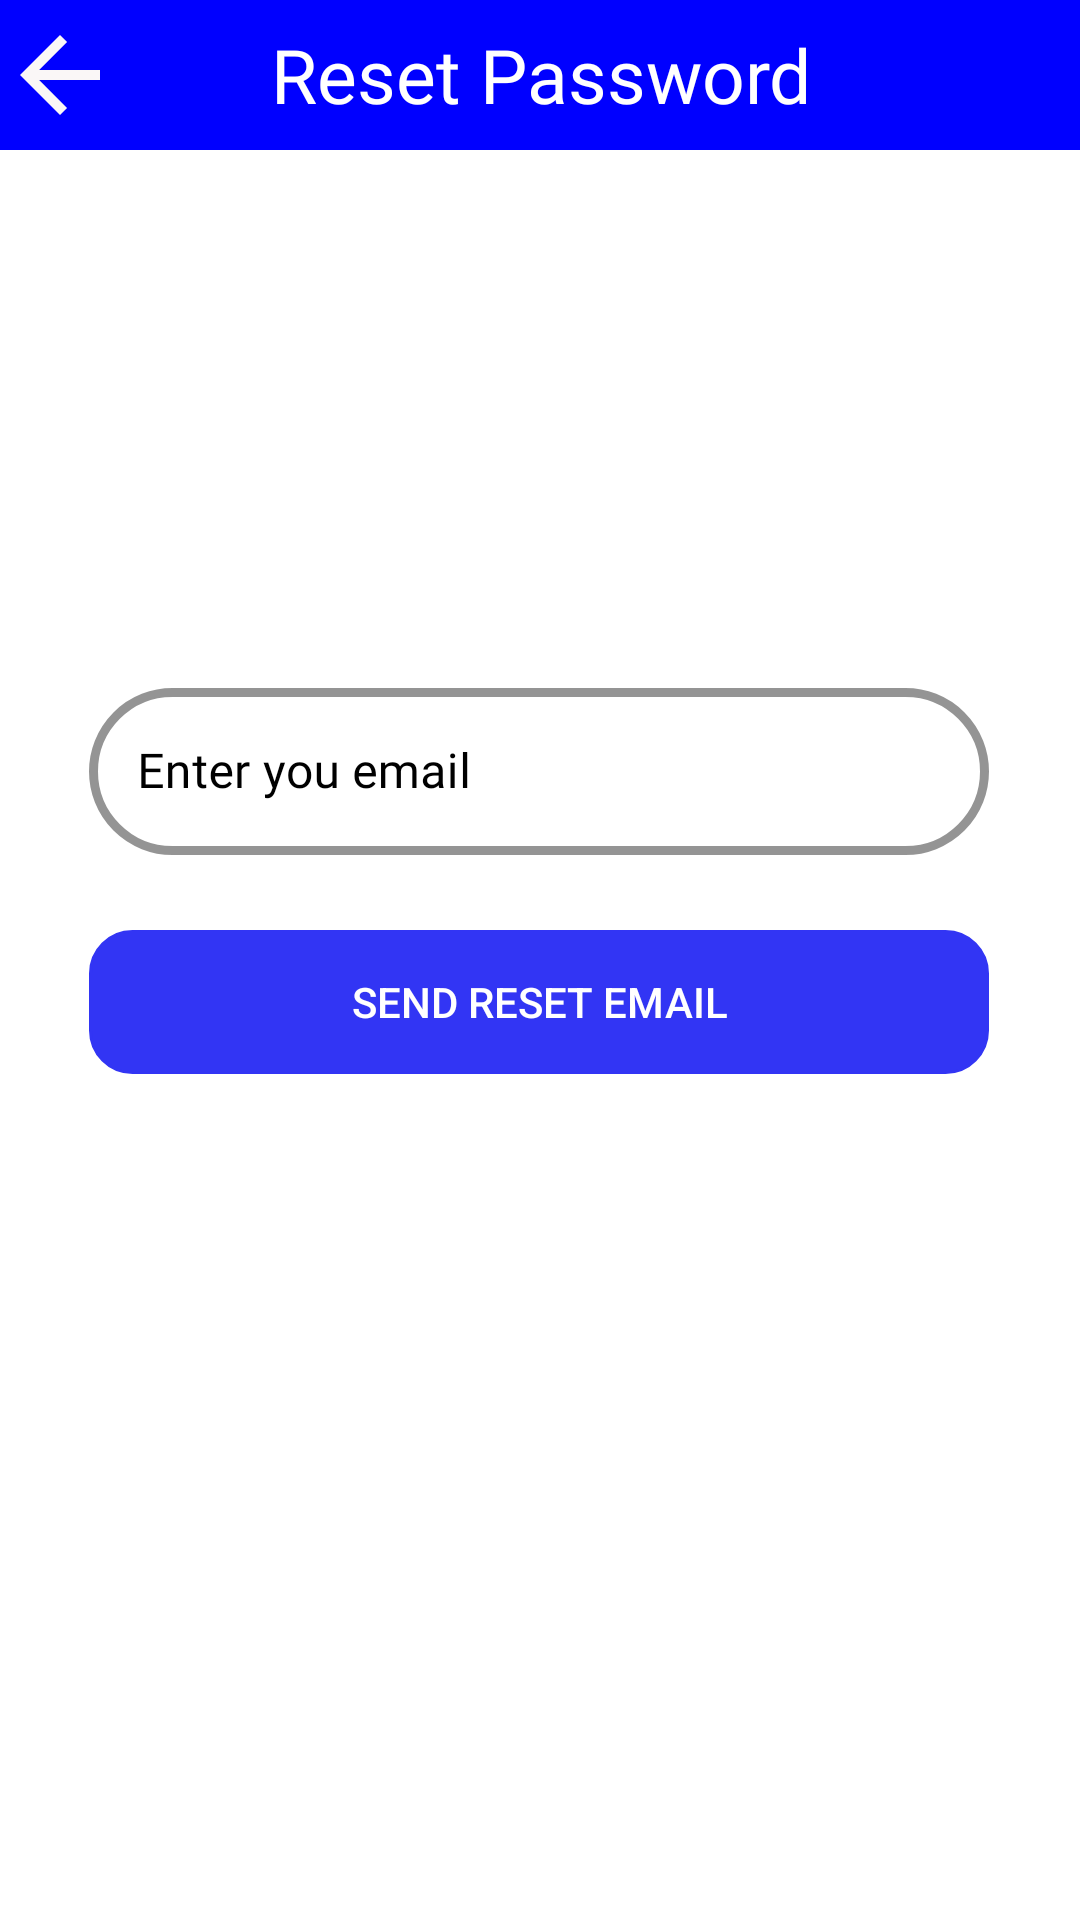

Icons on this 1080w x 1920h Android screen, each with its box as {"left": x1, "top": y1, "right": x2, "bottom": y2}:
arrow back: {"left": 20, "top": 35, "right": 100, "bottom": 115}
